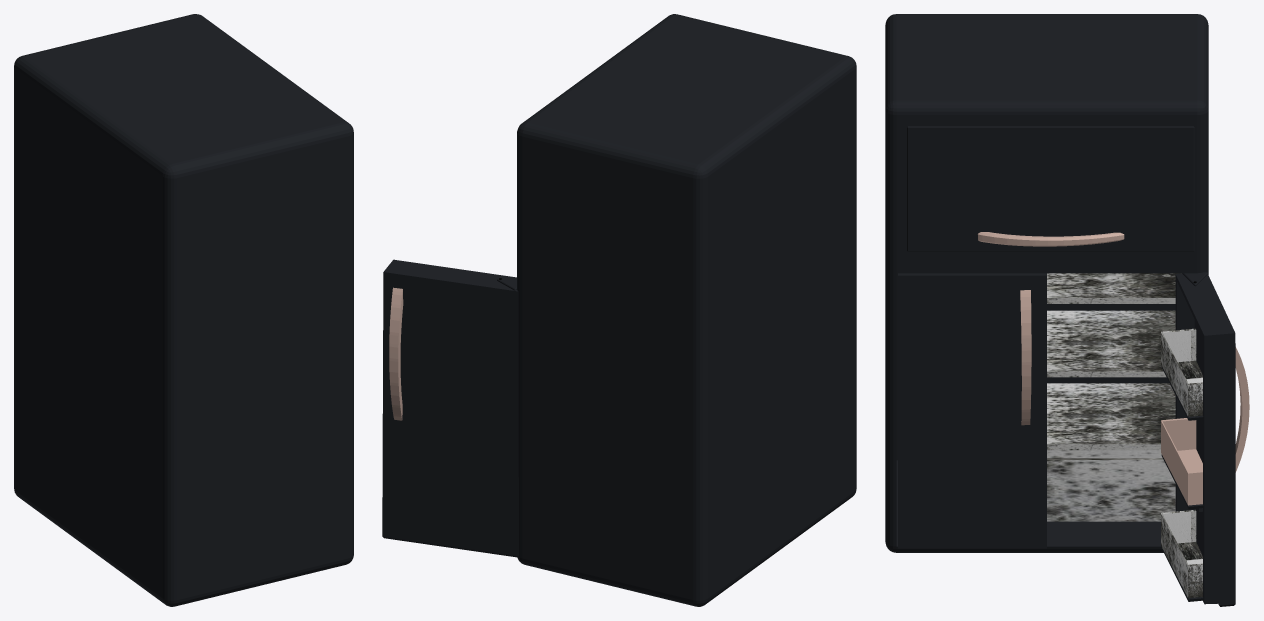
The model's file is Fridge.obj.
3 renders of one model, left to right at view 1: azimuth 30°, elevation 25°; view 2: azimuth 150°, elevation 25°; view 3: azimuth 270°, elevation 25°, orthographic. The views are drawn at different scales.
Parts seen in each view (by area): view 1: Cube; view 2: Cube, Cube.005; view 3: Cube, Cube.004, Cube.003, Cube.005, Cube.010_Cube.012, Cube.002_Cube.008, Cube.001_Cube.007, Cube.007_Cube.009, Cube.009_Cube.011, Cube.014_Cube.016, Cube.012_Cube.014.
Boxes of the visible parts, box(x1,y1,x2,y2) form: Cube: box(14, 14, 353, 606); Cube: box(517, 14, 856, 606); Cube.005: box(382, 259, 518, 557); Cube: box(885, 14, 1208, 552); Cube.004: box(898, 273, 1046, 548); Cube.003: box(907, 126, 1194, 251); Cube.005: box(1175, 273, 1249, 606); Cube.010_Cube.012: box(1047, 450, 1175, 521); Cube.002_Cube.008: box(1047, 383, 1175, 450); Cube.001_Cube.007: box(1047, 310, 1175, 377); Cube.007_Cube.009: box(1047, 273, 1181, 303); Cube.009_Cube.011: box(1161, 509, 1202, 597); Cube.014_Cube.016: box(1161, 328, 1202, 416); Cube.012_Cube.014: box(1161, 418, 1202, 505).
Size of what is drawn, in the model's own units: 3.28 by 4.45 by 3.25.
